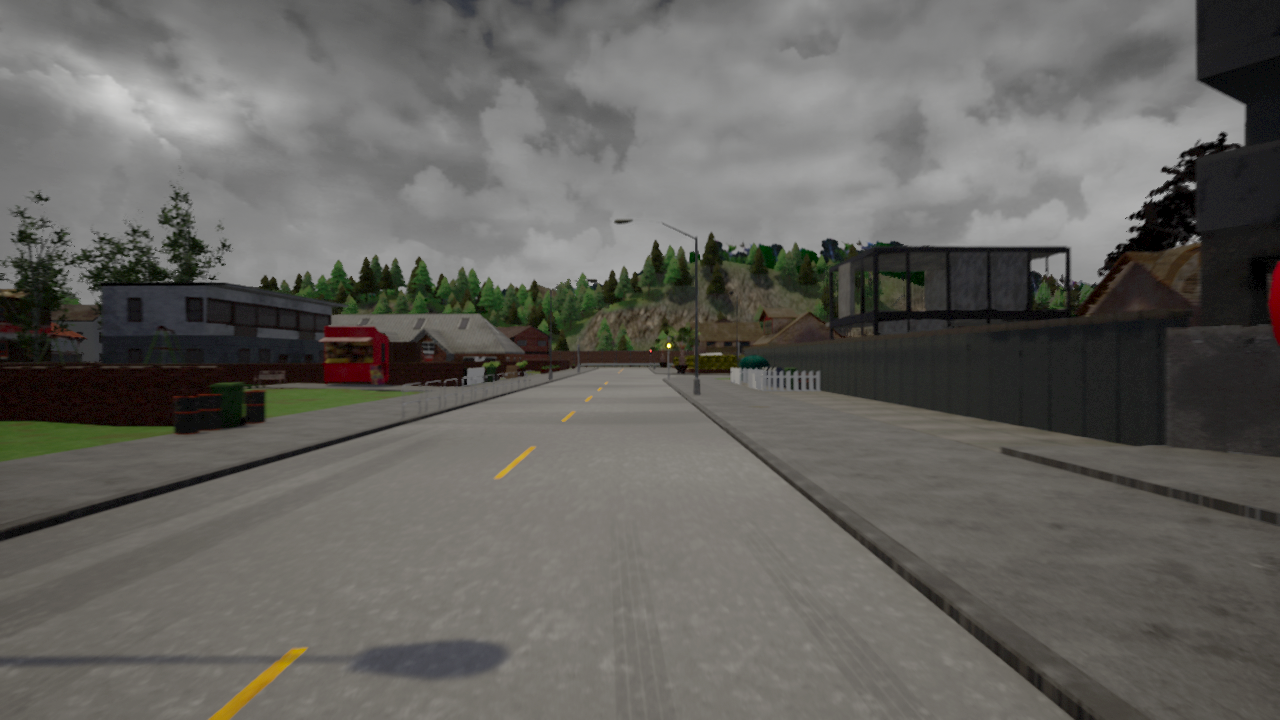yellow: (665, 337, 672, 351)
